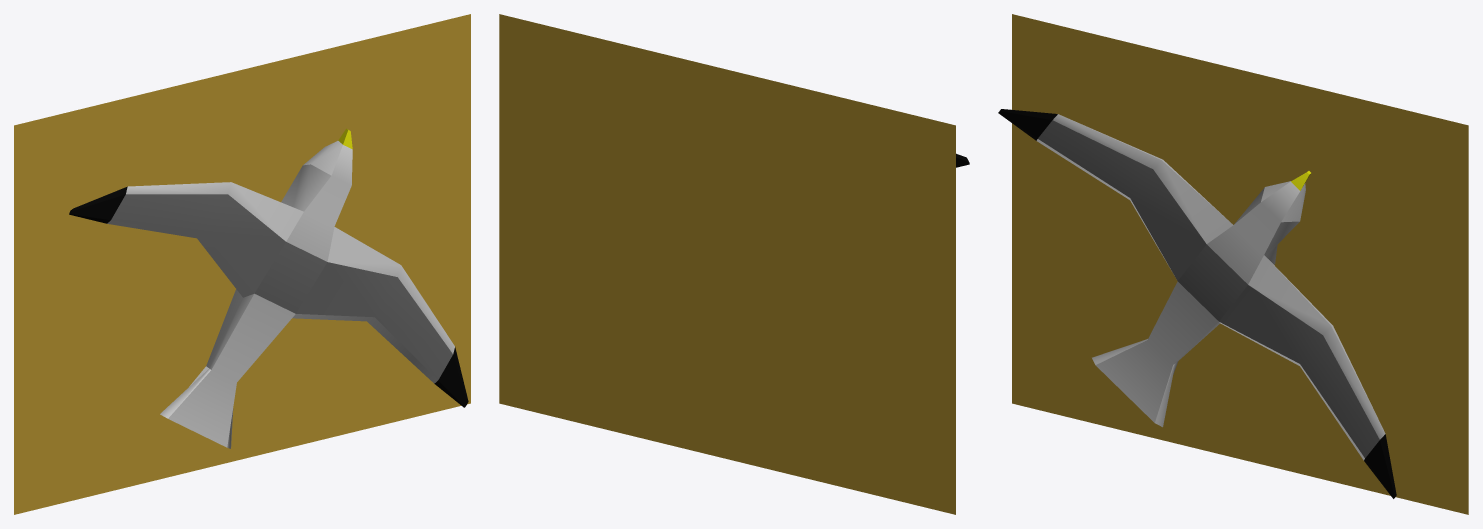
The model's file is bird.dae.
3 renders of one model, left to right at view 1: azimuth 30°, elevation 25°; view 2: azimuth 150°, elevation 25°; view 3: azimuth 330°, elevation 25°, orthographic.
Parts seen in each view (by area): view 1: pPlane3, pCube7; view 2: pPlane3; view 3: pPlane3, pCube7.
Part boxes in pixels (box(x1,y1,x2,y2)): pPlane3: box(14, 14, 470, 514); pCube7: box(69, 128, 468, 448); pPlane3: box(499, 14, 955, 514); pPlane3: box(1012, 14, 1468, 514); pCube7: box(998, 109, 1396, 498).
Bounding box in the file's own units: 4.8 × 3.91 × 0.7041.
